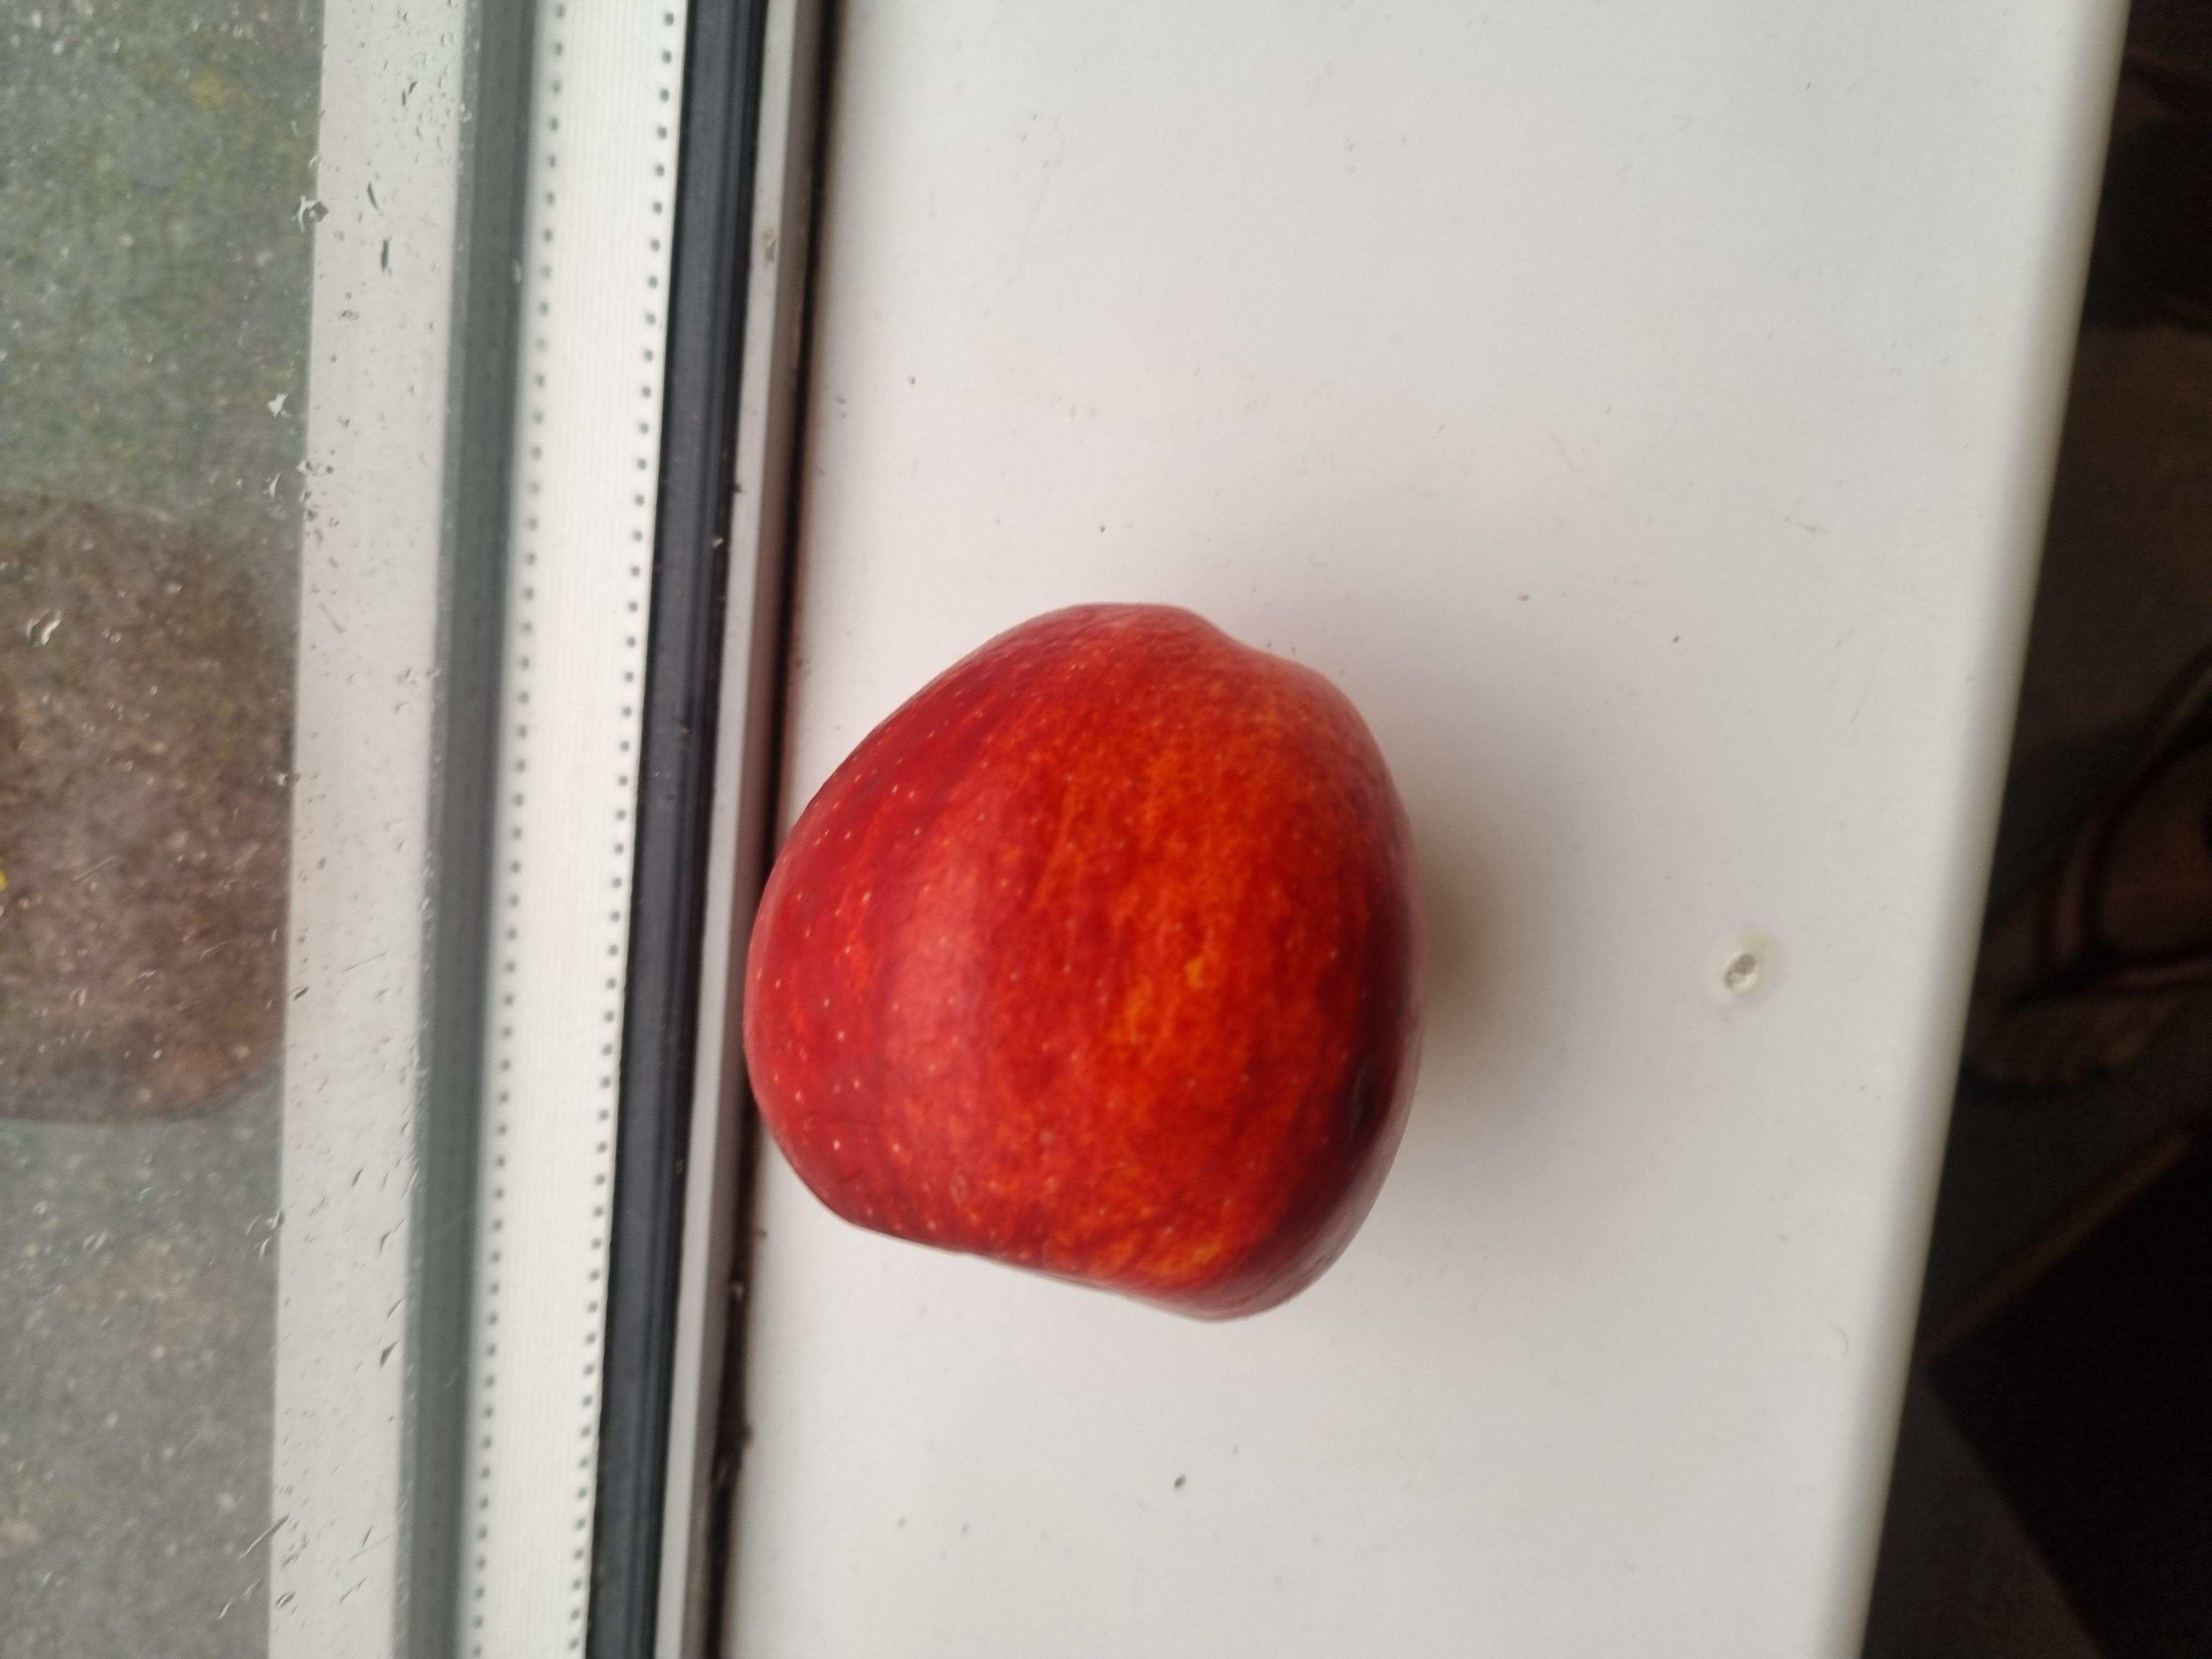Apple: (756, 293, 1482, 1075)
